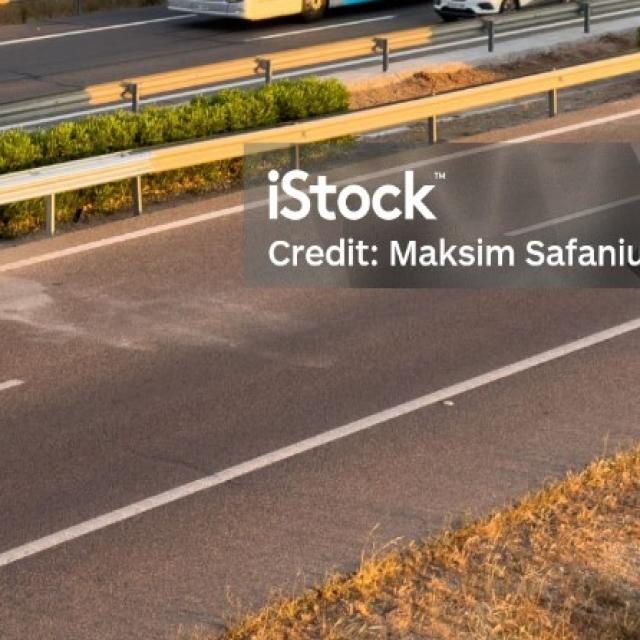bus: (147, 0, 581, 25)
car: (432, 0, 581, 21)
